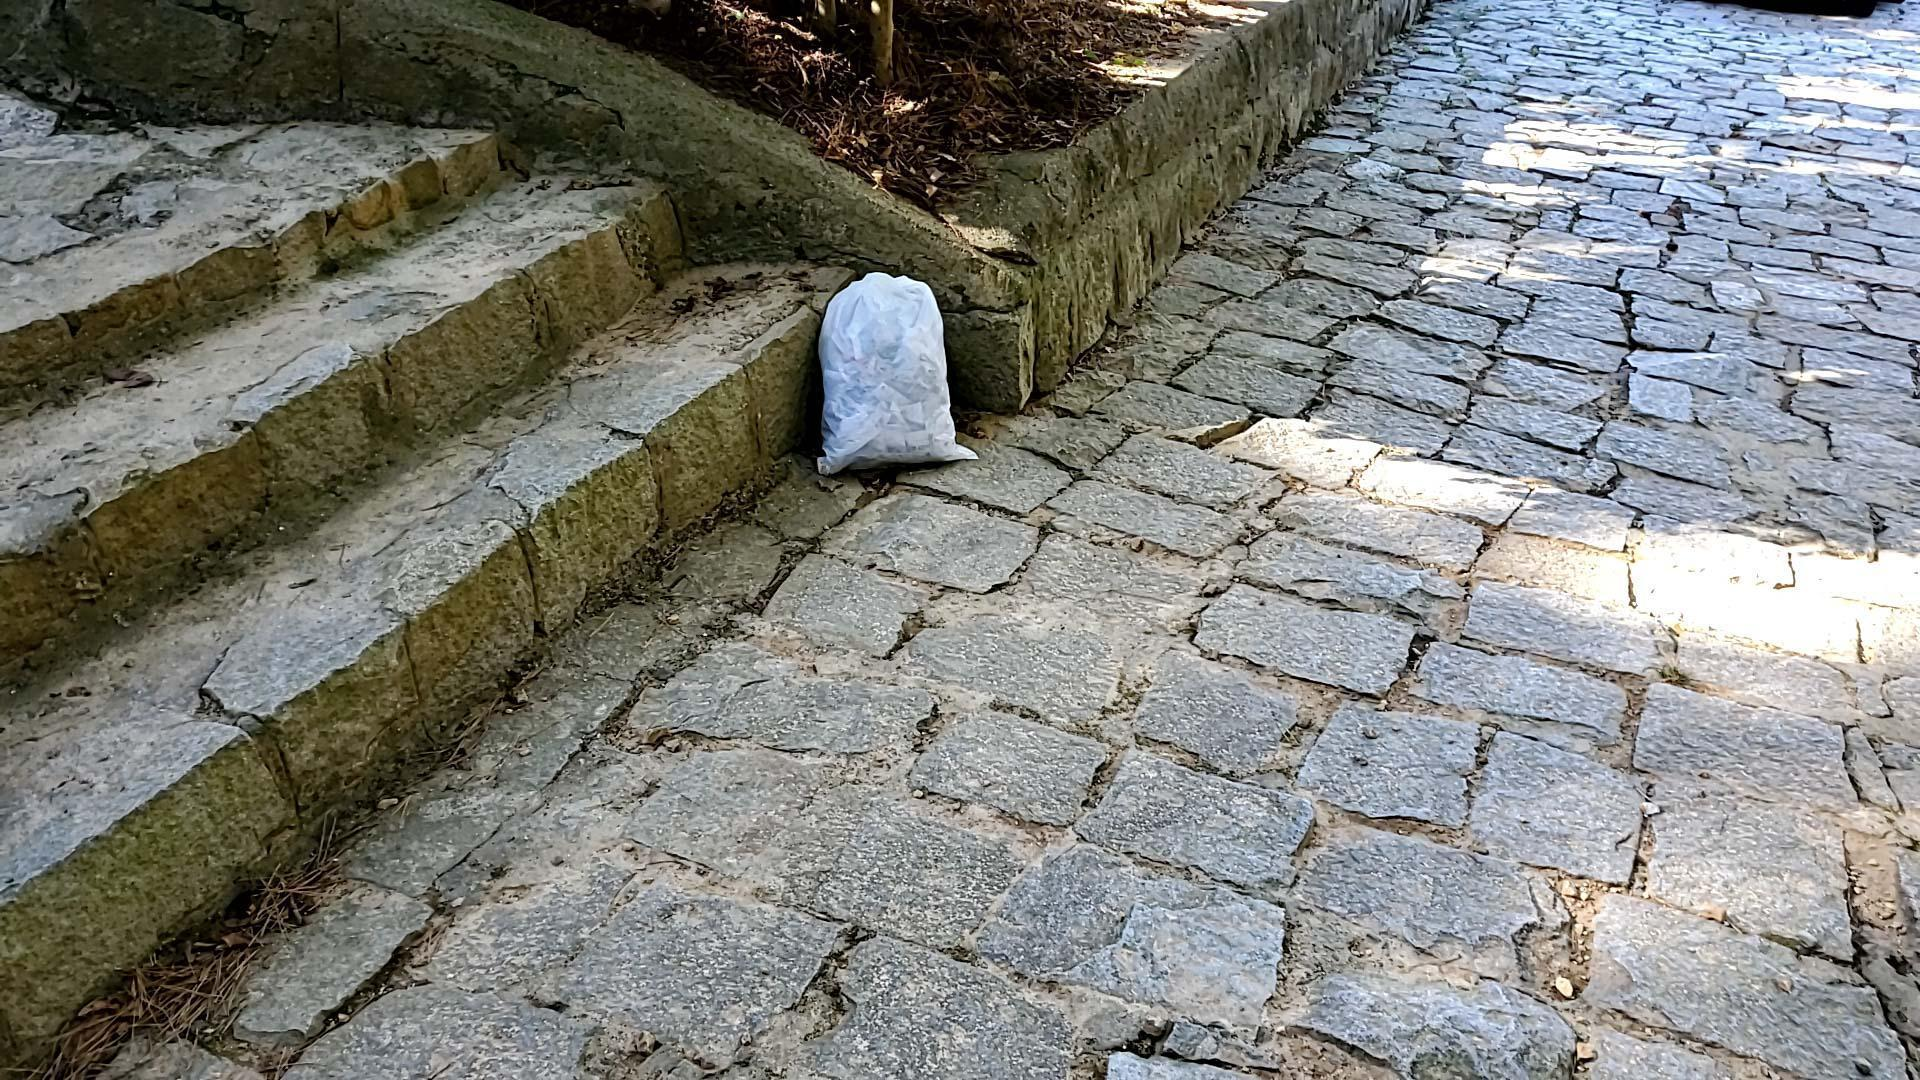white_bag: (803, 256, 978, 481)
